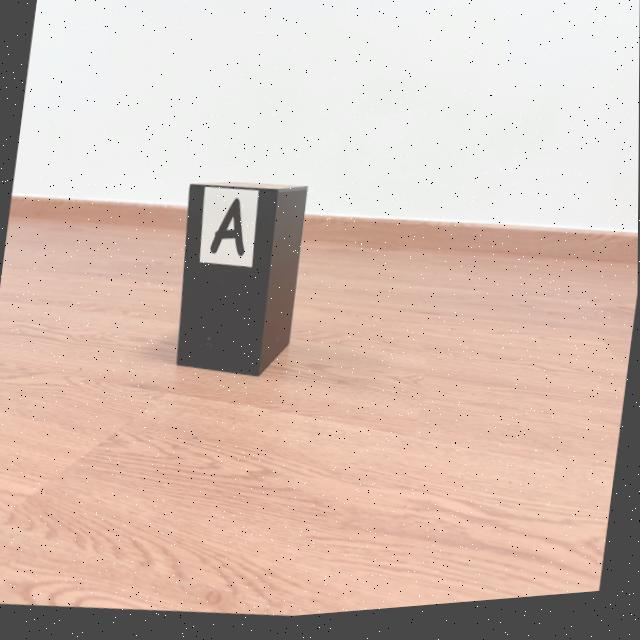A: (210, 202, 244, 260)
